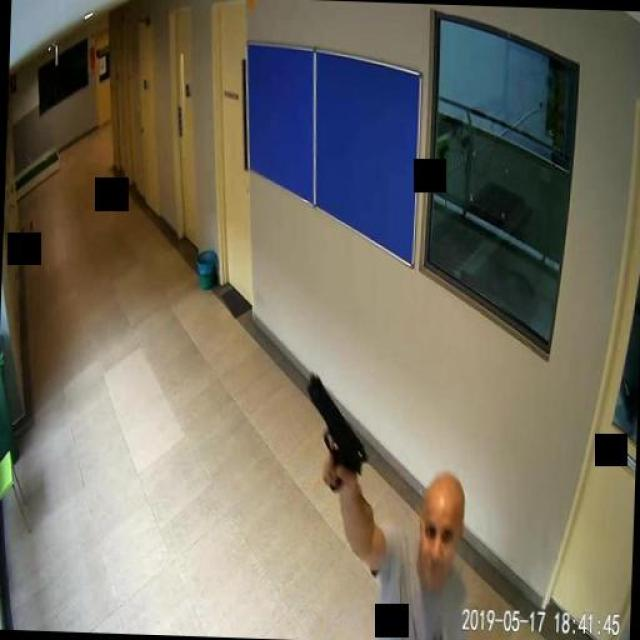gun: (302, 370, 370, 490)
